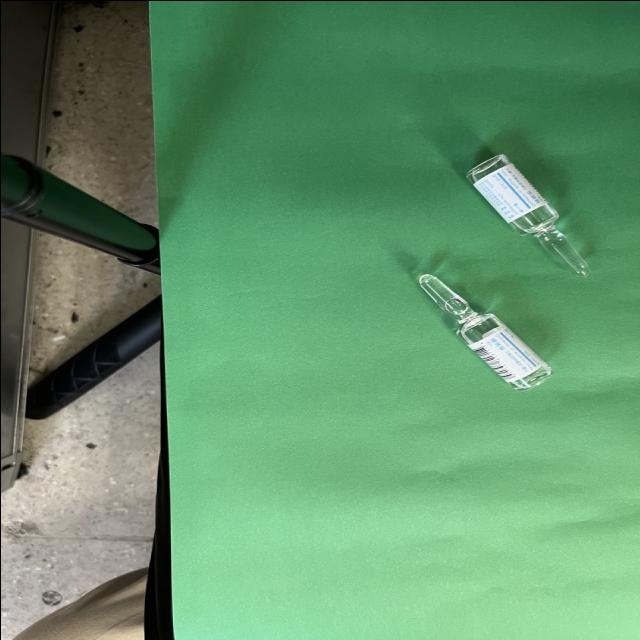Ampoules: (417, 272, 551, 389), (466, 154, 588, 275)
